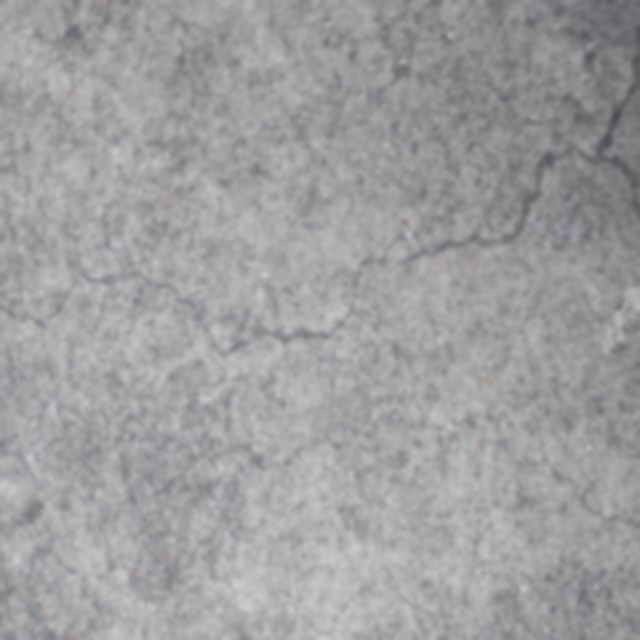SurfaceCrack: (0, 20, 639, 391)
